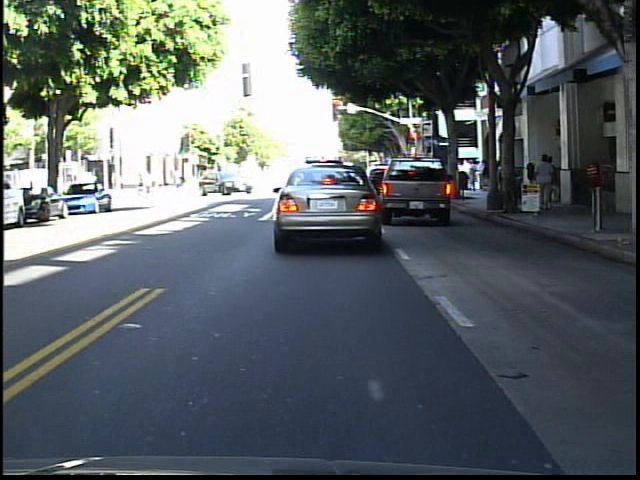person: (539, 153, 554, 208), (547, 153, 561, 207)
